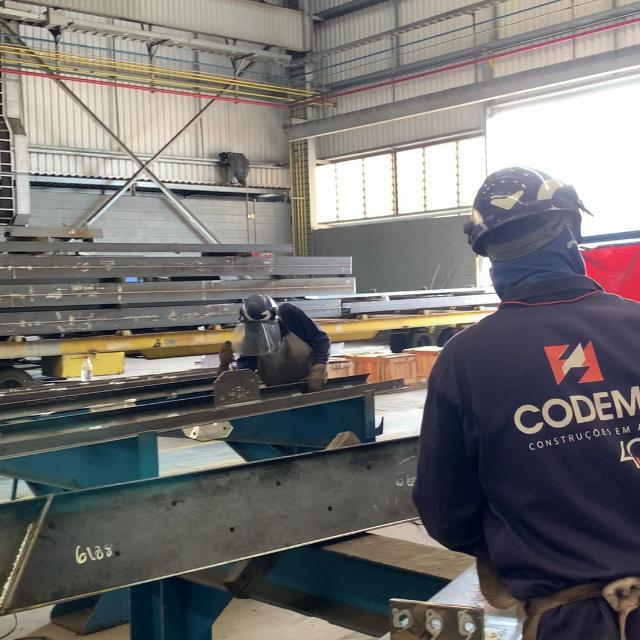eye-glass: (229, 322, 283, 358)
face-shield: (303, 364, 330, 392)
glove: (472, 167, 581, 239), (237, 293, 279, 324)
mask: (410, 163, 639, 640), (214, 293, 332, 392)
